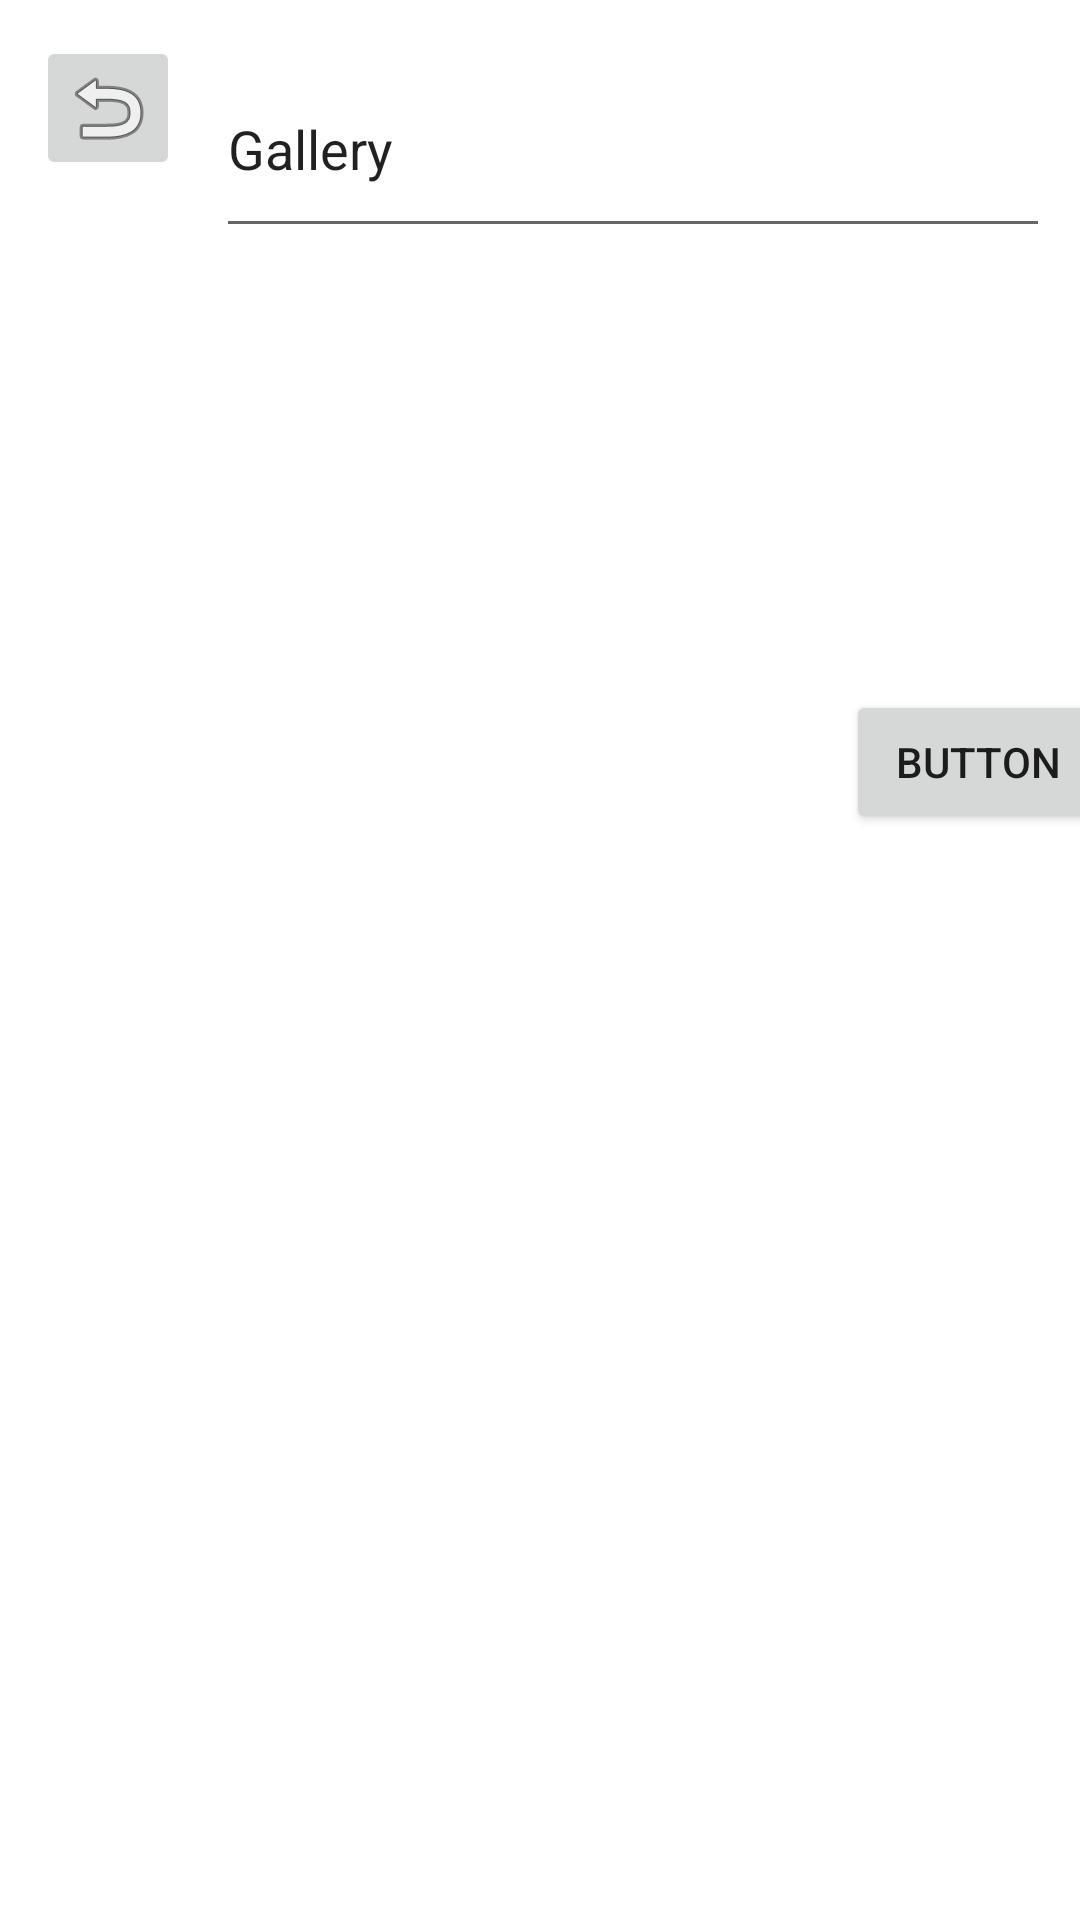

Named icons in this screenshot (1080x1920) and their centers, (x=x, y=y):
revert: (x=108, y=108)
